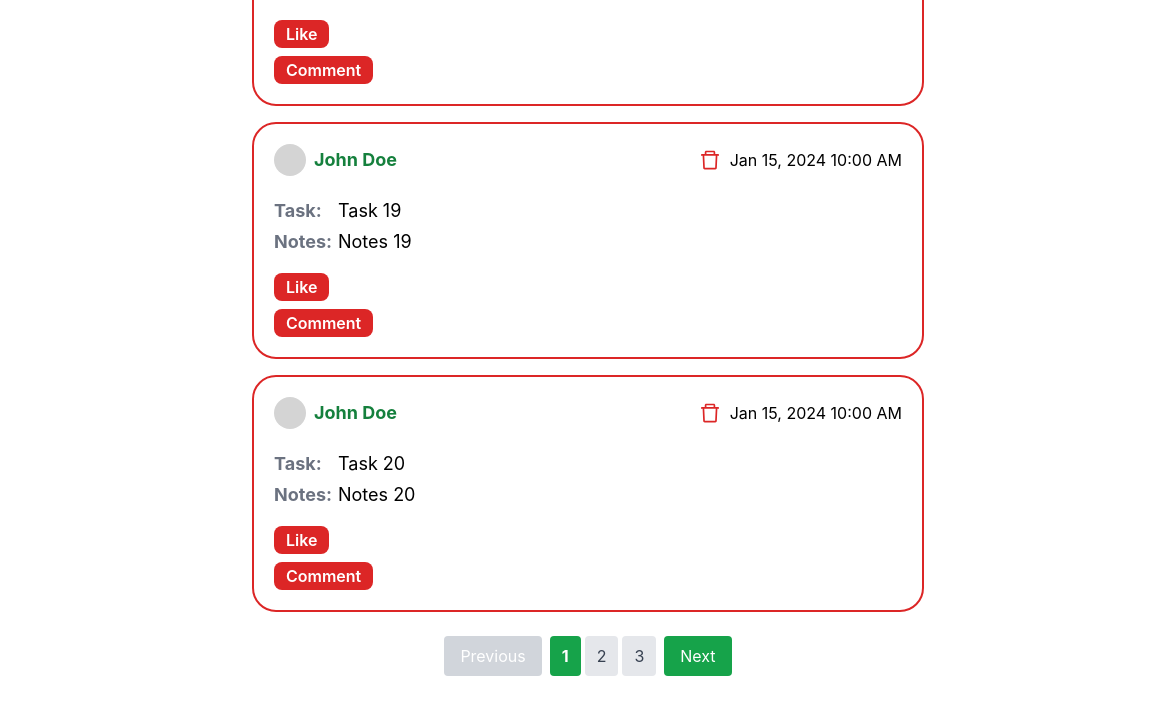
Scenario: UserProfile › Pagination › should show loading spinner during page transition
(page scrolled)
Click the button with aria-label "Next page" at [698, 656], box [664, 636, 732, 676]
(page scrolled)
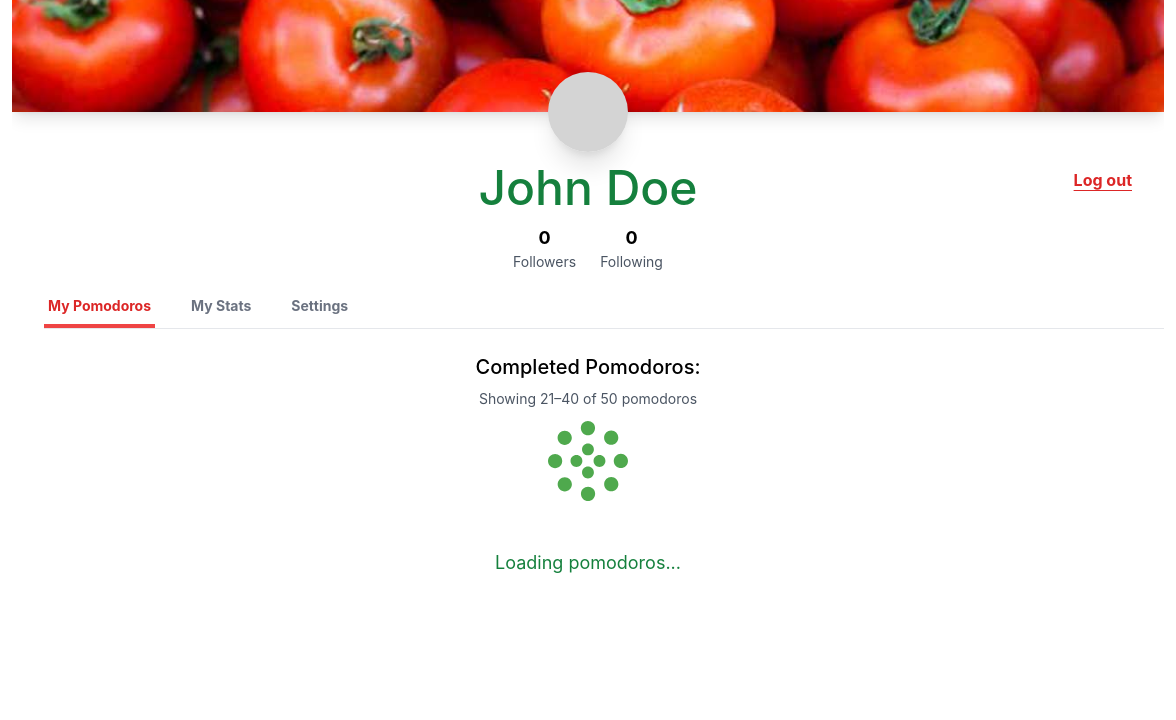
Now the text "Loading pomodoros..." is shown, box [487, 549, 689, 577]
